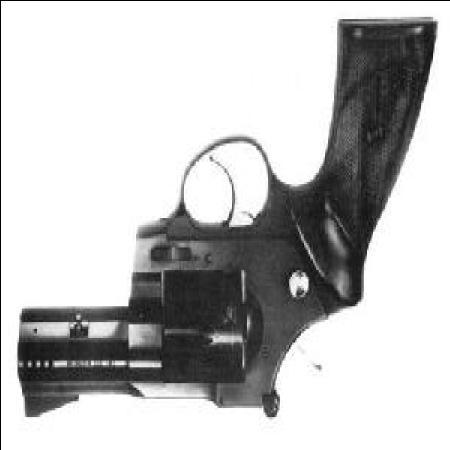Pistol: (15, 18, 441, 423)
